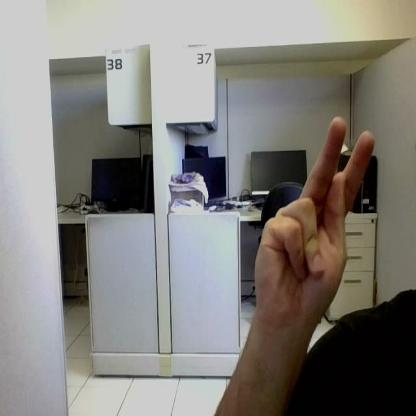K: (254, 117, 374, 317)
